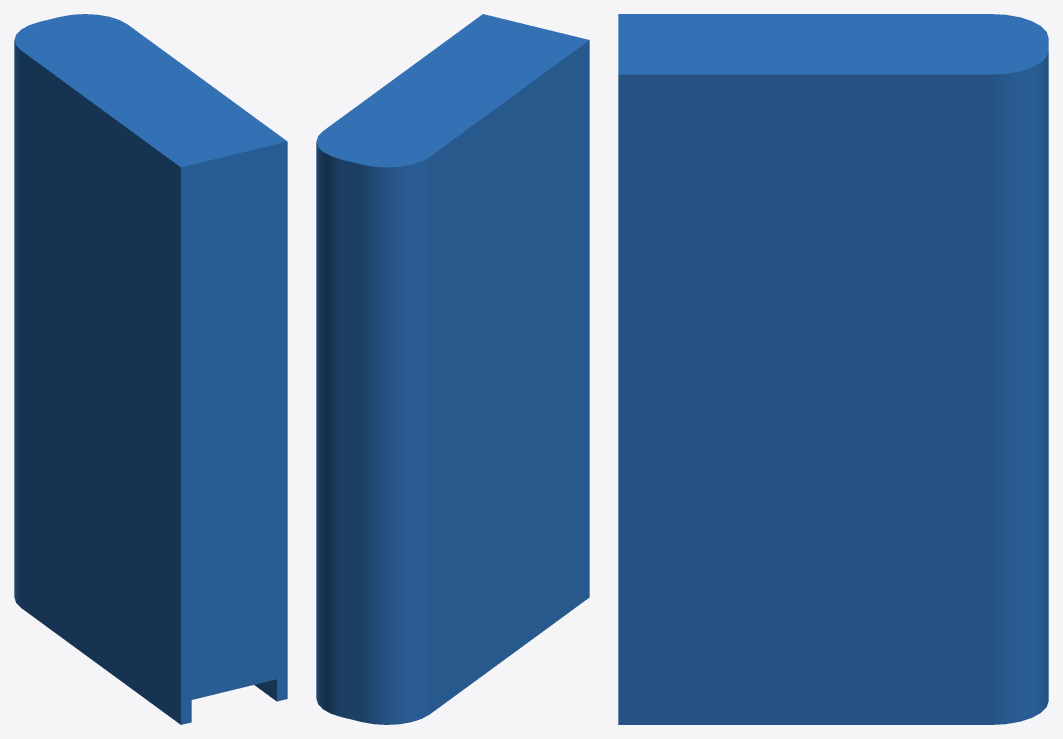
Rendered from book.fbx.
3 renders of one model, left to right at view 1: azimuth 30°, elevation 25°; view 2: azimuth 150°, elevation 25°; view 3: azimuth 270°, elevation 25°, orthographic. The views are drawn at different scales.
Parts seen in each view (by area): view 1: 3DGeom~3, 3DGeom~1, 3DGeom~5, 3DGeom~8; view 2: 3DGeom~3, 3DGeom~8, 3DGeom~5, 3DGeom~7, 3DGeom~6; view 3: 3DGeom~4, 3DGeom~7, 3DGeom~5.
Part boxes in pixels (x1,y1,x2,y2): 3DGeom~3: (21,50,180,724); 3DGeom~1: (181,141,287,724); 3DGeom~5: (14,14,286,167); 3DGeom~8: (14,40,20,607); 3DGeom~3: (429,40,589,713); 3DGeom~8: (362,157,429,724); 3DGeom~5: (316,14,588,167); 3DGeom~7: (316,142,340,716); 3DGeom~6: (341,159,362,721); 3DGeom~4: (618,74,991,724); 3DGeom~7: (991,51,1048,724); 3DGeom~5: (618,14,1048,74).
Size of the model in its own units: 0.18 by 0.54 by 0.9.
